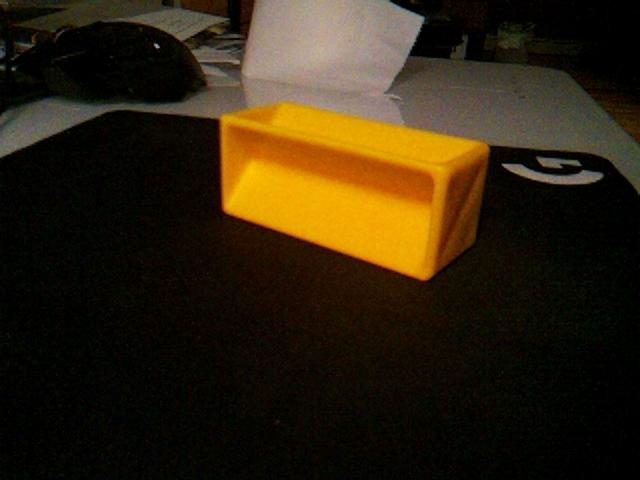yellow: (218, 99, 491, 283)
